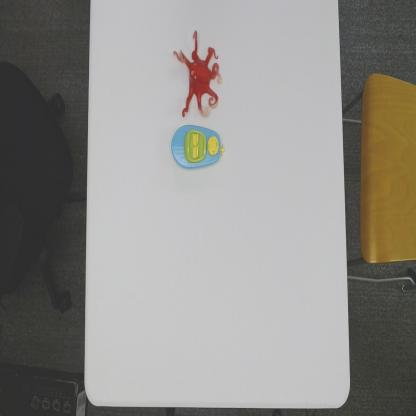Boat: (170, 123, 225, 170)
Octopus: (172, 29, 222, 120)
